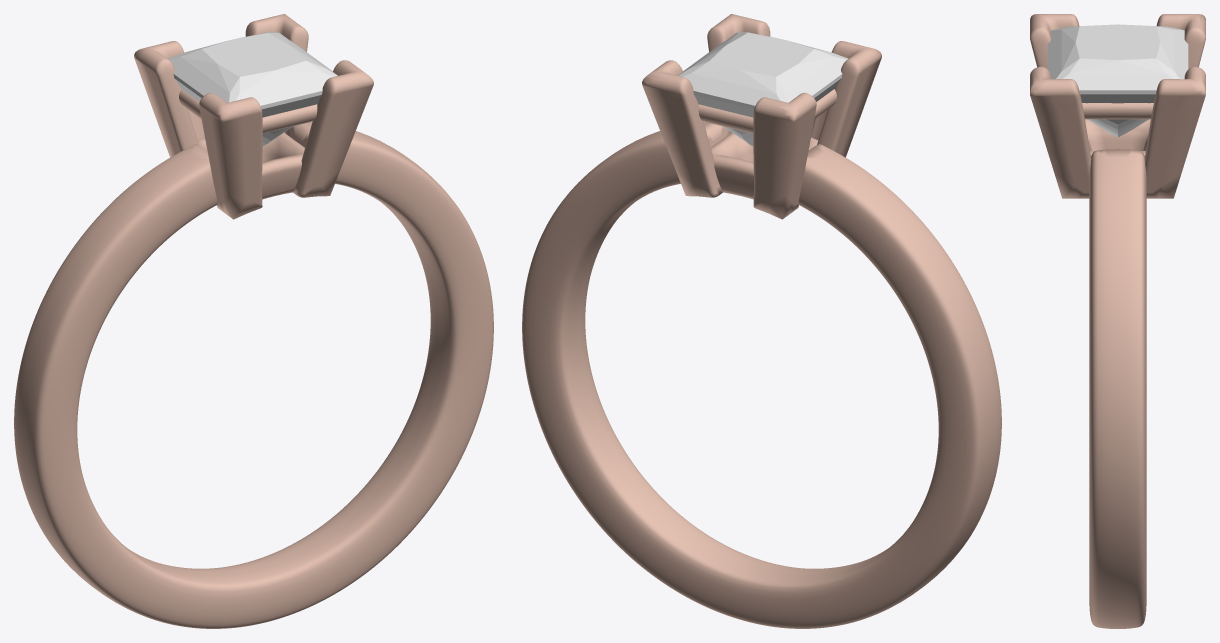
The model's file is diamond-princess-rosegold-protectededges4prongs-straightband-solitaire.glb.
3 renders of one model, left to right at view 1: azimuth 30°, elevation 25°; view 2: azimuth 150°, elevation 25°; view 3: azimuth 270°, elevation 25°, orthographic.
Parts seen in each view (by area): view 1: metal, stone; view 2: metal, stone; view 3: metal, stone.
Part boxes in pixels (x1,y1,x2,y2): metal: (14, 14, 493, 628); stone: (167, 32, 337, 146); metal: (522, 14, 1001, 628); stone: (678, 32, 848, 146); metal: (1030, 14, 1205, 628); stone: (1047, 24, 1188, 137).
Size of the model in its own units: 20.51 by 23.86 by 6.77.
